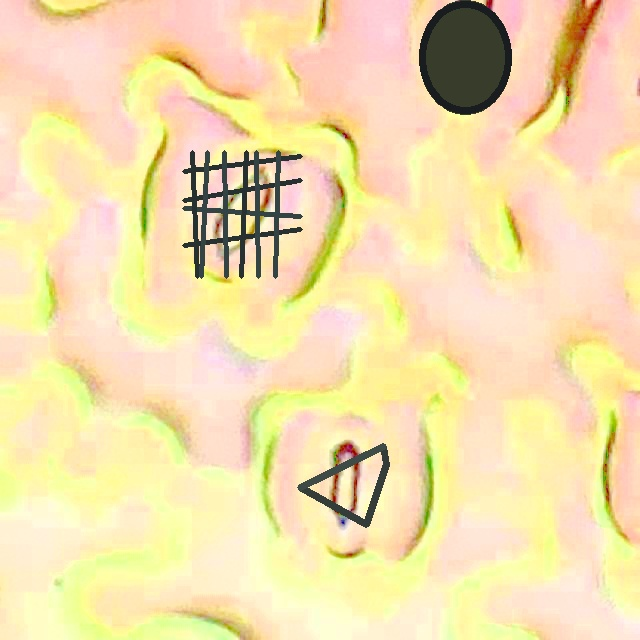open: (183, 150, 302, 277), (419, 0, 511, 114), (298, 444, 389, 527)
